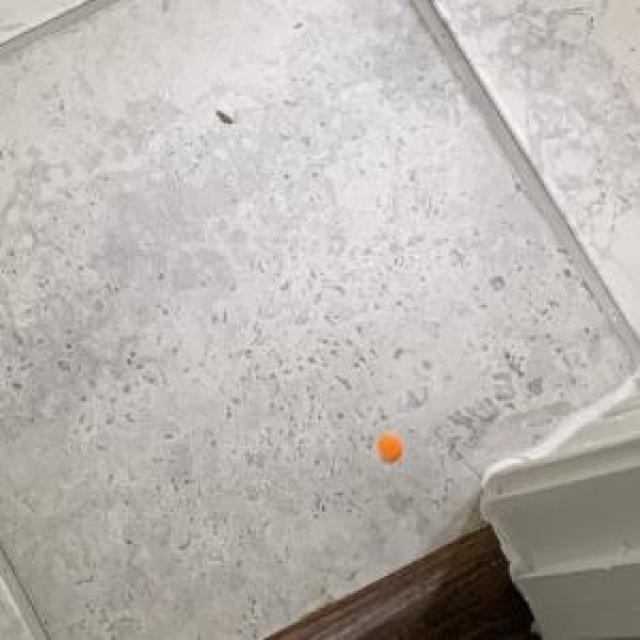Bactidol: (362, 409, 413, 472)
